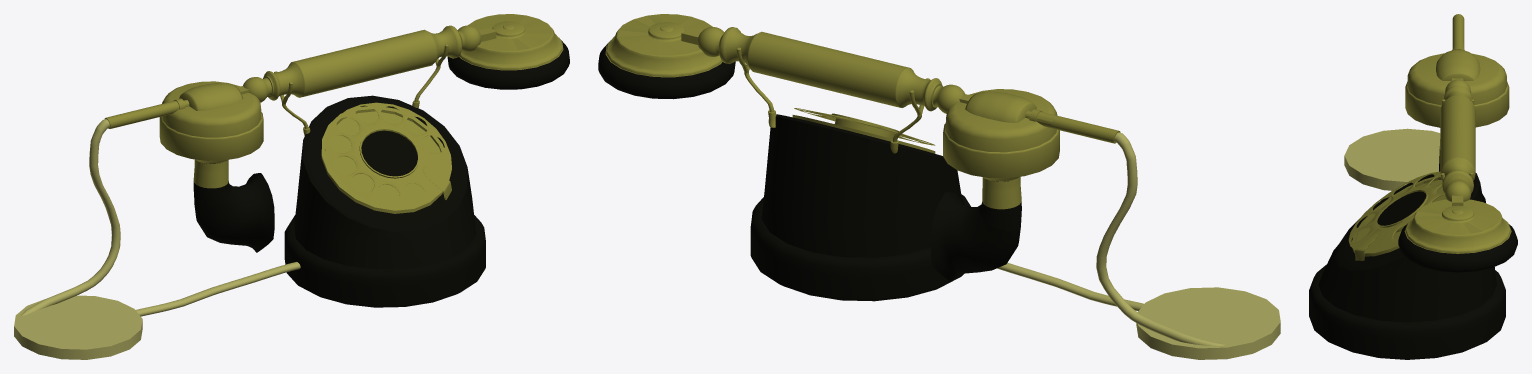
The model's file is Telephone 2.fbx.
3 renders of one model, left to right at view 1: azimuth 30°, elevation 25°; view 2: azimuth 150°, elevation 25°; view 3: azimuth 270°, elevation 25°, orthographic. The views are drawn at different scales.
Parts seen in each view (by area): view 1: persp2; view 2: persp2; view 3: persp2.
Part boxes in pixels (<box>): persp2: <box>14,14,569,359</box>; persp2: <box>598,14,1280,359</box>; persp2: <box>1309,14,1517,359</box>.
Size of the model in its own units: 18.7 by 6.72 by 6.14.
